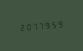five: (52, 19, 58, 29)
nine: (45, 19, 51, 30), (59, 18, 65, 28)
seven: (31, 20, 37, 31), (38, 20, 44, 30)
two: (17, 22, 23, 32)
zero: (24, 21, 30, 31)
